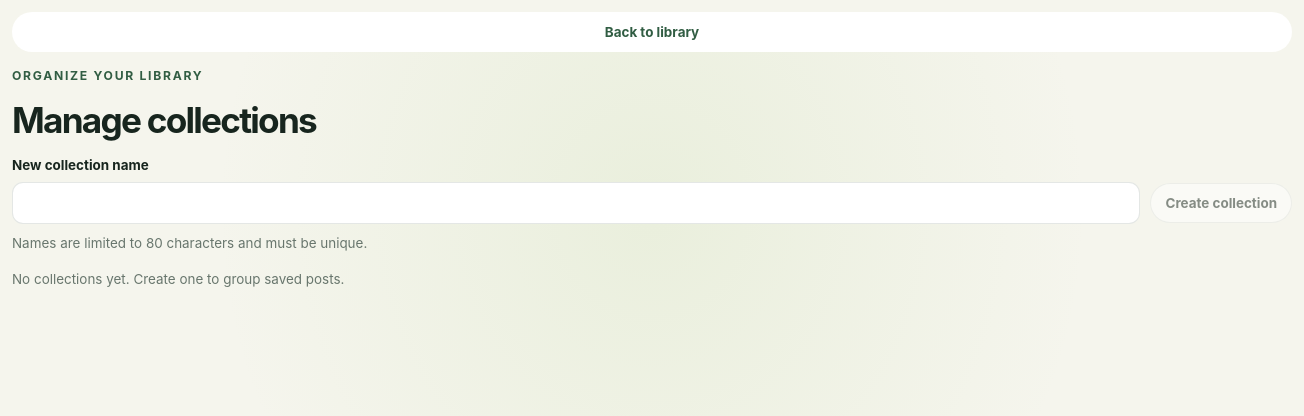
Scenario: collection management › creates, lists, renames, and deletes collections through authenticated API calls
Expected: the text "No collections yet. Create one to group saved posts." is shown, [12, 271, 344, 287]
Type "Synthetic trip" into the field labelled "New collection name" at (576, 203), box [12, 182, 1140, 224]
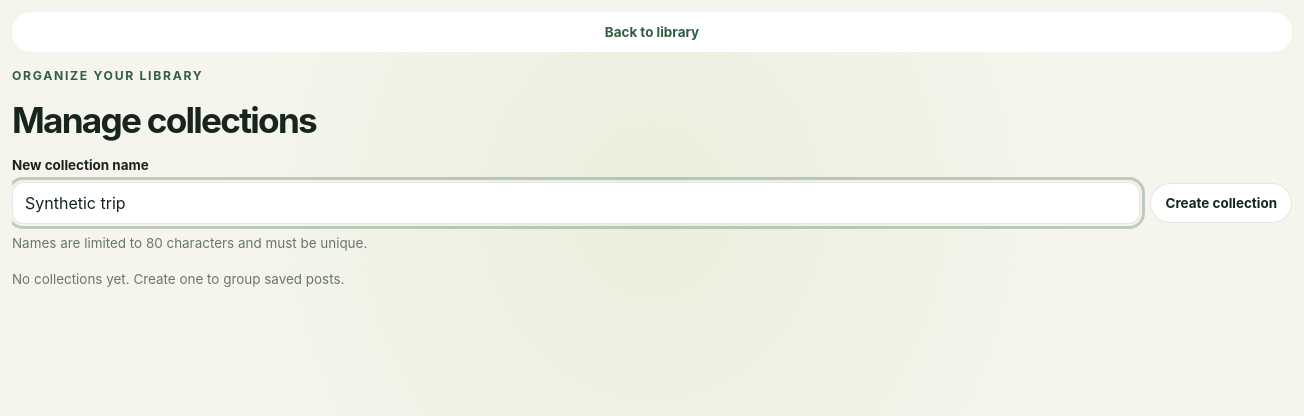
Click the button "Create collection" at (1221, 203), box [1150, 183, 1292, 223]
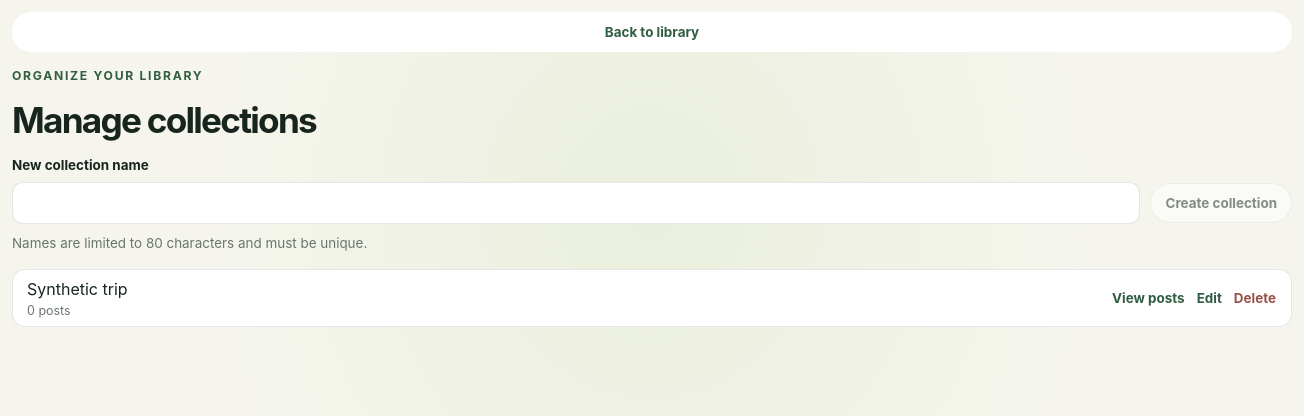
Now the text "Synthetic trip" is shown, box [27, 279, 128, 299]
Click the button "Edit" at (1209, 298), box [1196, 278, 1223, 318]
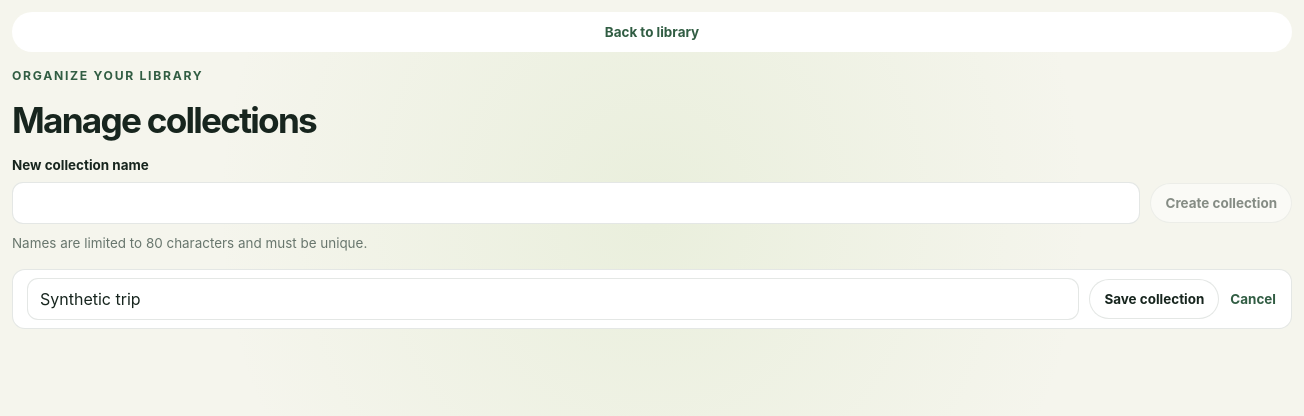
Replace the text in the field named "Edit collection name" with "Updated trip" at (553, 299), box [27, 278, 1079, 320]
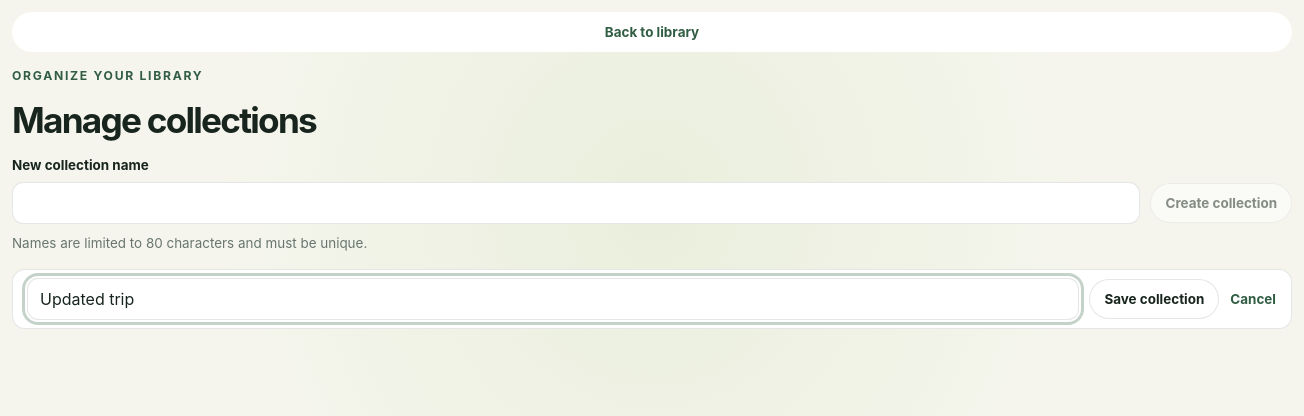
Click the button "Save collection" at (1154, 299), box [1089, 279, 1219, 319]
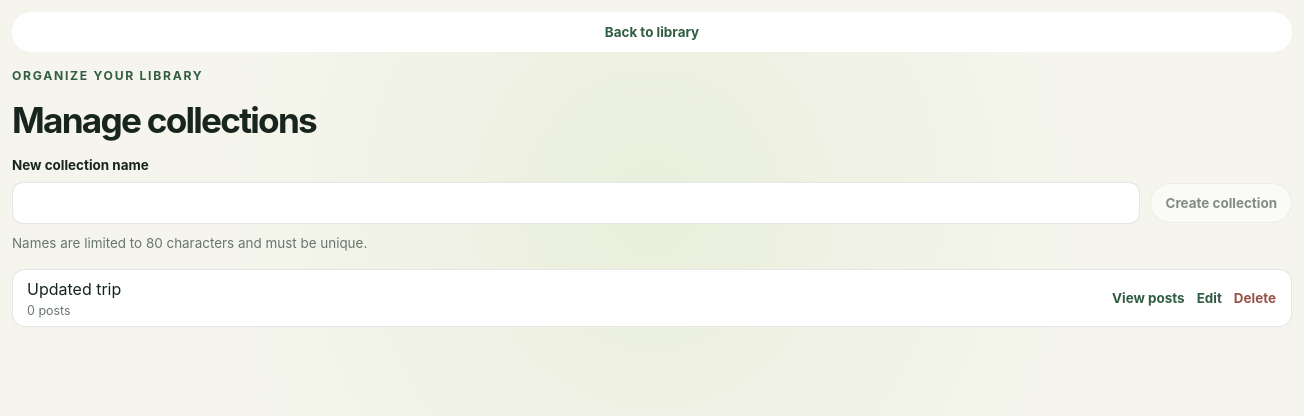
Now the text "Updated trip" is shown, box [27, 279, 121, 299]
Click the button with aria-label "Delete collection Updated trip" at (1255, 298), box [1233, 278, 1277, 318]
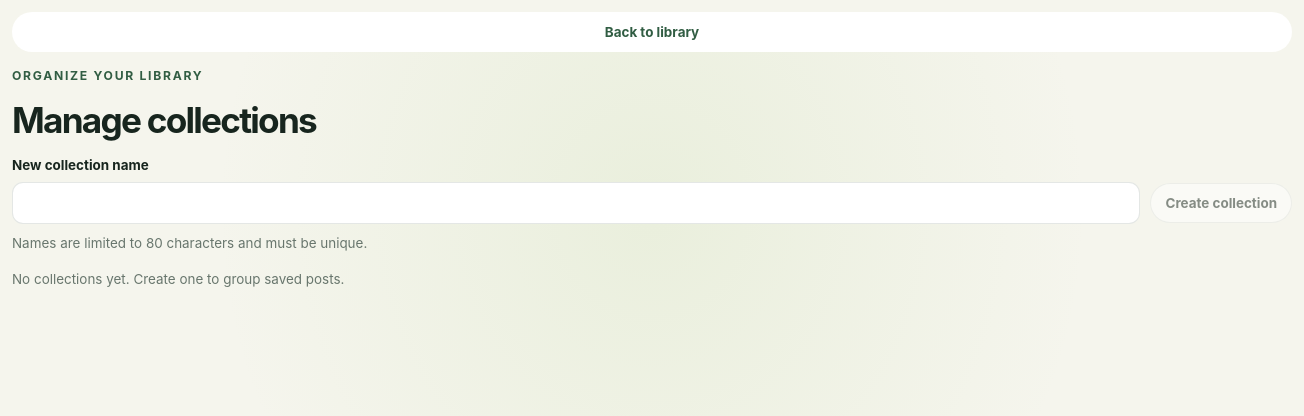
Now the text "No collections yet. Create one to group saved posts." is shown, box [12, 271, 344, 287]
